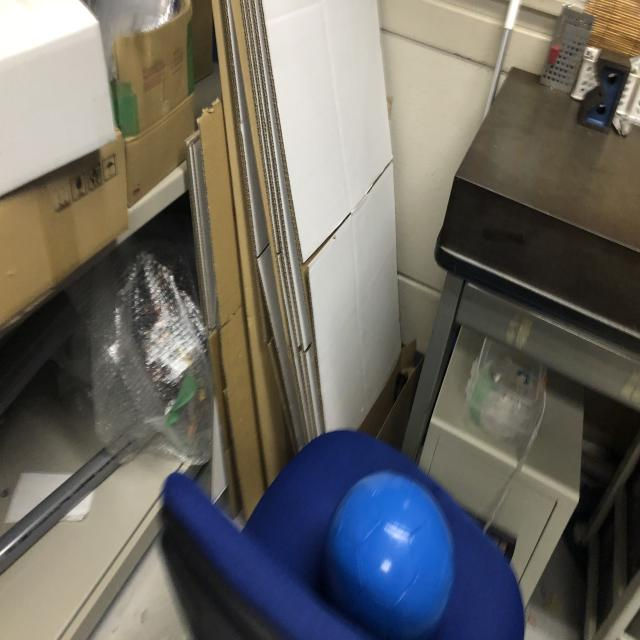blue_ball: (328, 472, 460, 640)
